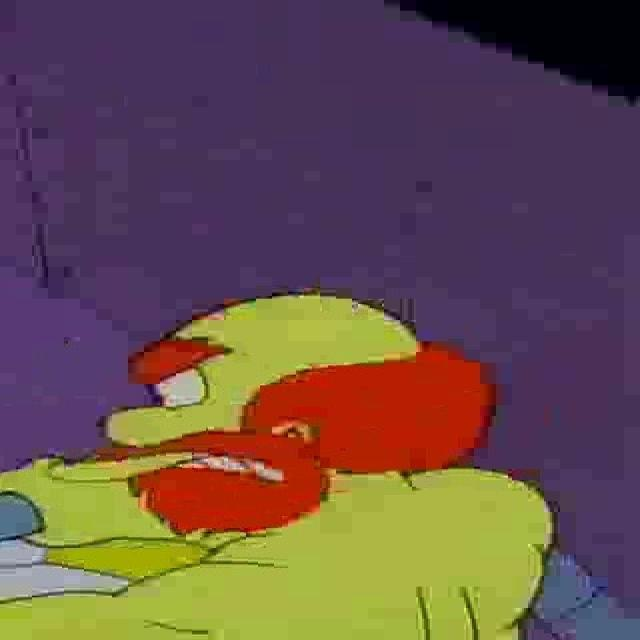Groundskeeper Willie: (74, 290, 490, 546)
